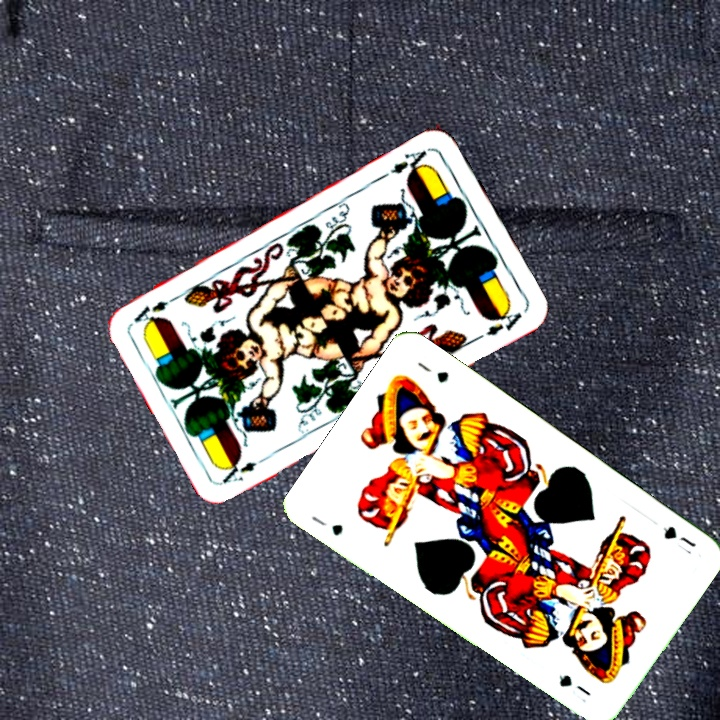EA: (218, 451, 273, 486), (386, 144, 433, 179)
GU: (658, 521, 699, 558), (307, 512, 346, 539)
